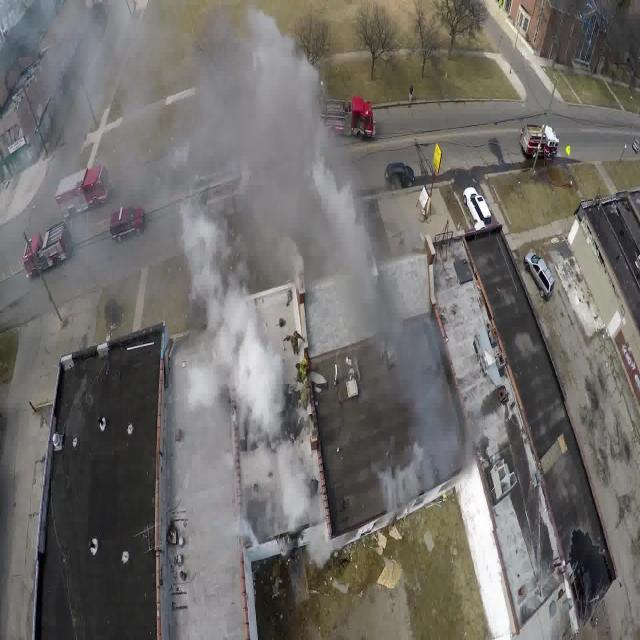Smoke: (188, 42, 318, 554), (333, 178, 468, 492), (54, 5, 180, 255)
